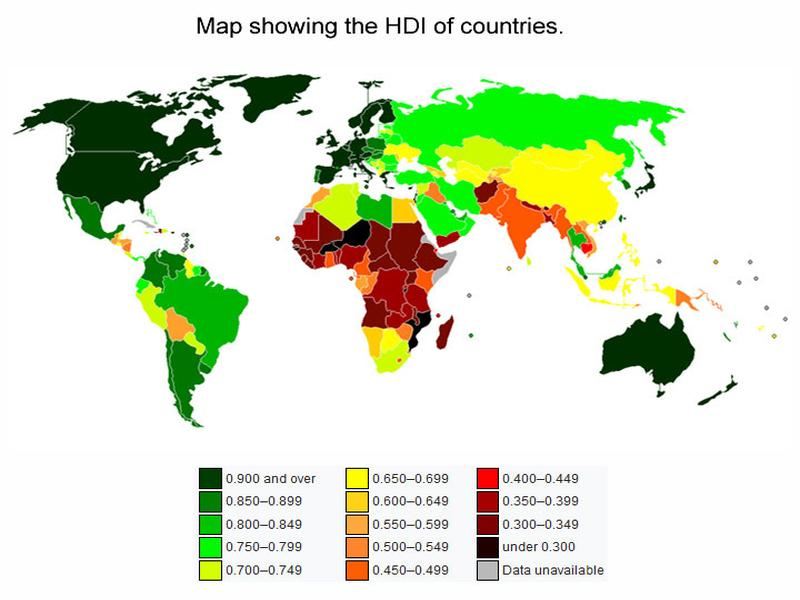legend: (196, 464, 606, 583)
